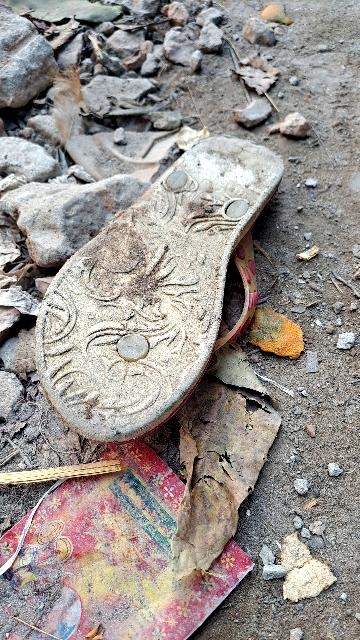sandal: (3, 86, 324, 452)
